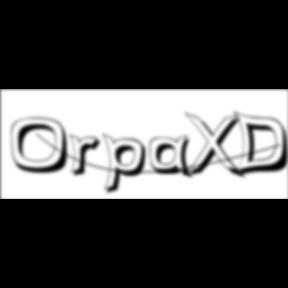O: (12, 117, 76, 176)
X: (185, 112, 249, 182)
a: (150, 135, 198, 182)
p: (103, 132, 153, 198)
r: (70, 134, 108, 180)
